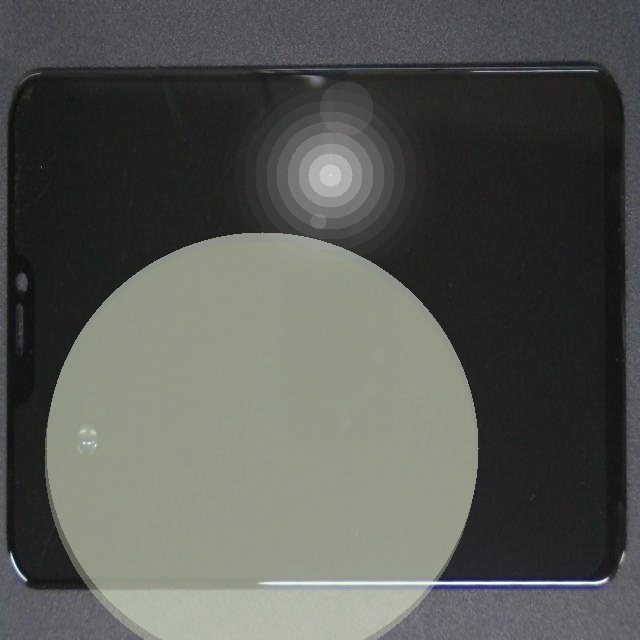oil: (61, 217, 148, 632)
